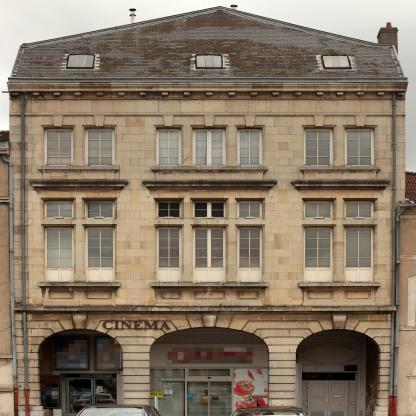Blind: (323, 55, 350, 68), (197, 55, 222, 68), (67, 55, 94, 67)
Building Outline: (6, 4, 409, 416)
Cornice: (142, 180, 277, 190), (290, 180, 391, 190), (29, 180, 129, 190)
Deco: (103, 321, 170, 329), (355, 115, 366, 127), (53, 115, 64, 127), (94, 115, 105, 127), (163, 115, 174, 127), (314, 115, 325, 127), (244, 115, 255, 127), (204, 115, 215, 127)
Door: (150, 327, 269, 416), (296, 329, 382, 416), (38, 329, 124, 416), (302, 380, 357, 416), (68, 378, 117, 416), (187, 381, 231, 416)
Facade: (9, 91, 405, 415)
Floor: (9, 180, 405, 306), (9, 90, 405, 180)
Floor Slab: (9, 85, 405, 90), (9, 175, 405, 180), (11, 301, 396, 306)
Ground Floor: (11, 306, 396, 415)
Molding: (8, 91, 407, 98)
Pillar: (16, 352, 45, 416), (268, 352, 296, 416), (123, 352, 150, 416), (373, 344, 391, 416)
Roof: (12, 10, 404, 77)
Shop: (150, 369, 185, 416), (234, 369, 268, 416), (189, 369, 230, 376)
Sill: (151, 282, 269, 289), (151, 167, 269, 173), (298, 282, 381, 289), (38, 282, 120, 289), (299, 167, 382, 173), (38, 167, 120, 172)
Top Floor: (9, 10, 405, 90)
Window: (193, 226, 226, 282), (44, 226, 74, 282), (85, 226, 115, 282), (304, 227, 333, 283), (345, 227, 374, 283), (157, 226, 182, 282), (238, 227, 263, 283), (192, 127, 226, 167), (85, 127, 115, 167), (304, 127, 334, 167), (345, 127, 375, 167), (44, 127, 73, 167), (238, 127, 263, 167), (156, 127, 181, 167), (193, 200, 226, 218), (345, 200, 375, 219), (304, 200, 334, 219), (43, 200, 73, 219), (85, 200, 115, 219), (237, 200, 263, 219), (156, 200, 181, 219), (302, 373, 357, 381), (323, 55, 350, 68), (197, 55, 222, 68), (67, 55, 94, 67), (61, 373, 117, 378), (61, 378, 67, 416)
dont: (229, 396, 307, 416), (74, 404, 162, 416)
